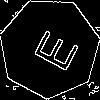E: (24, 23, 80, 74)
